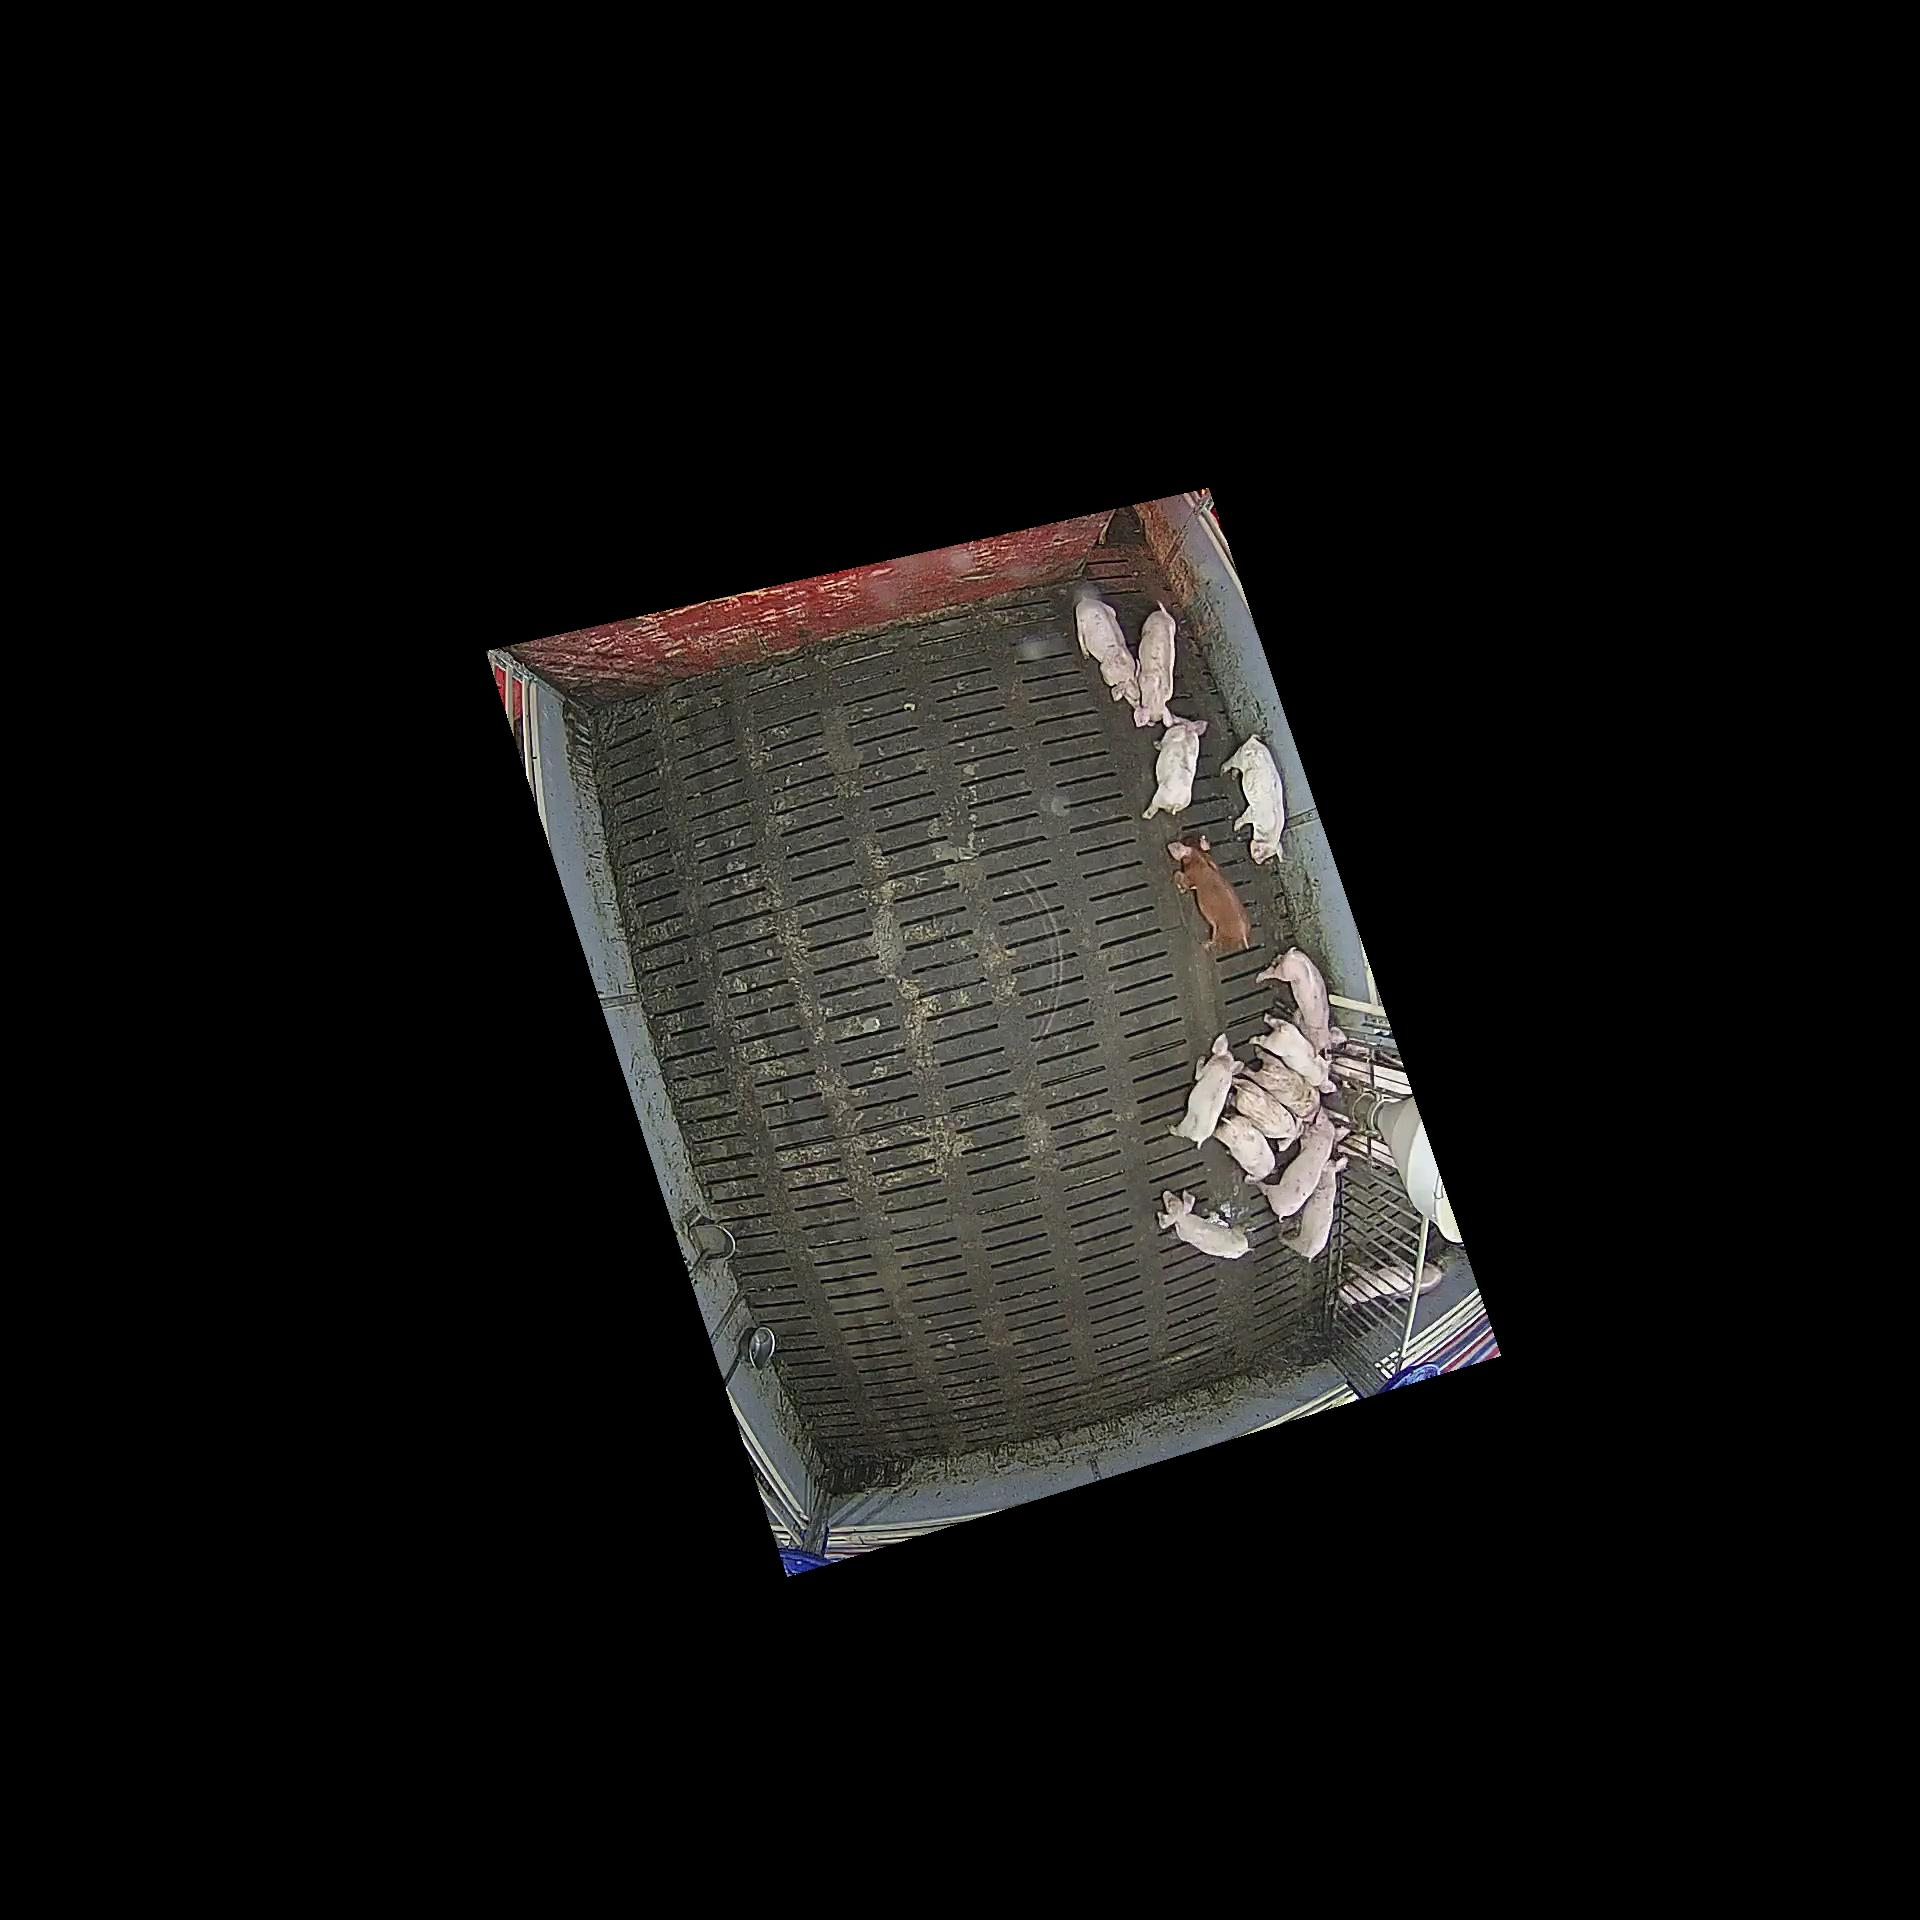pig: (1255, 1108, 1350, 1224), (1167, 835, 1254, 951), (1257, 948, 1349, 1057), (1166, 1032, 1245, 1152), (1220, 735, 1285, 865), (1076, 594, 1141, 712), (1278, 1157, 1349, 1264), (1248, 1013, 1338, 1094), (1157, 1190, 1259, 1257), (1143, 716, 1206, 819), (1225, 1076, 1306, 1152), (1243, 1046, 1320, 1124), (1134, 600, 1176, 726), (1213, 1115, 1275, 1183)
